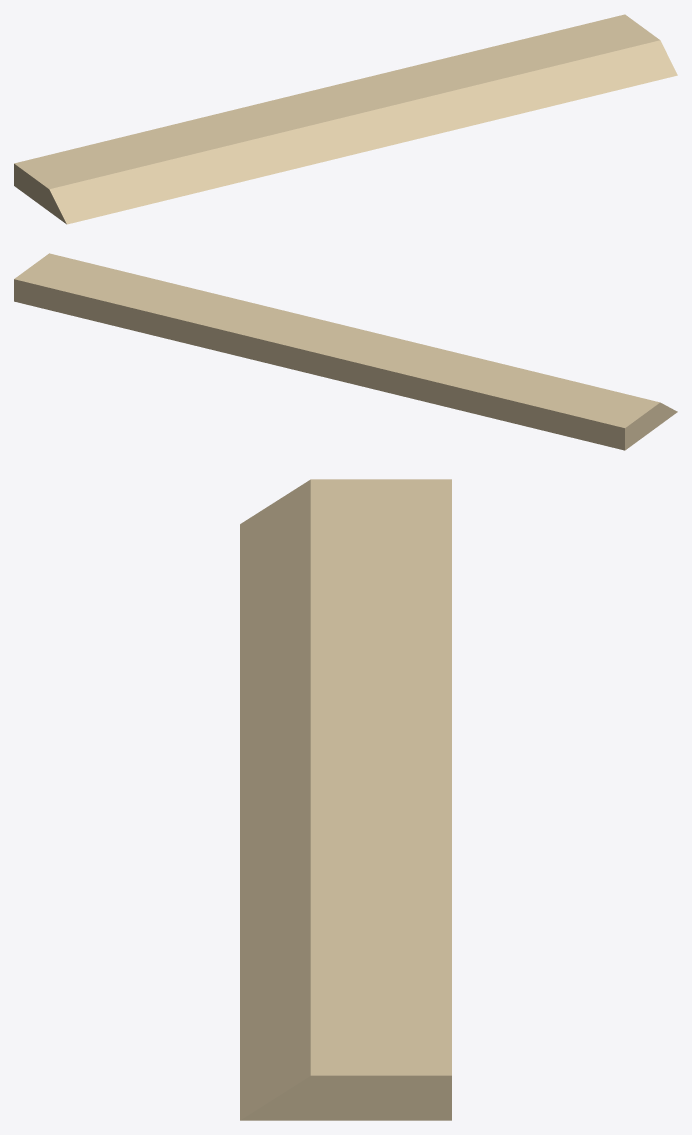
File: paving_edge.fbx
The picture shows the model from 3 angles, top to bottom: view 1: azimuth 30°, elevation 25°; view 2: azimuth 150°, elevation 25°; view 3: azimuth 270°, elevation 25°; orthographic projection. The views are drawn at different scales.
Visible parts, largest first — view 1: SM_ENV_paving_edge; view 2: SM_ENV_paving_edge; view 3: SM_ENV_paving_edge.
Boxes of the visible parts, x1,y1,x2,y2 form: SM_ENV_paving_edge: (14,14,677,224); SM_ENV_paving_edge: (14,253,677,450); SM_ENV_paving_edge: (240,479,451,1120).
Bounding box in the file's own units: 40000 × 1400 × 6000.
